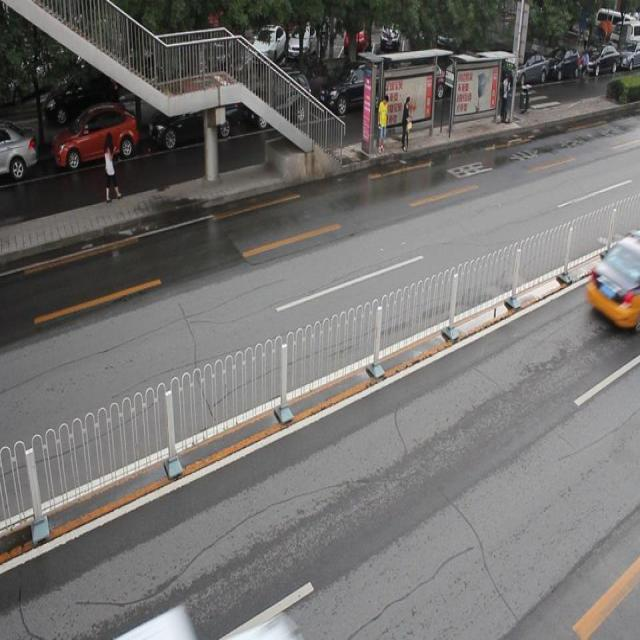car: (111, 608, 305, 640), (48, 105, 136, 172), (584, 230, 640, 328), (143, 91, 235, 145), (314, 61, 390, 119), (240, 72, 309, 132), (1, 124, 37, 182)
